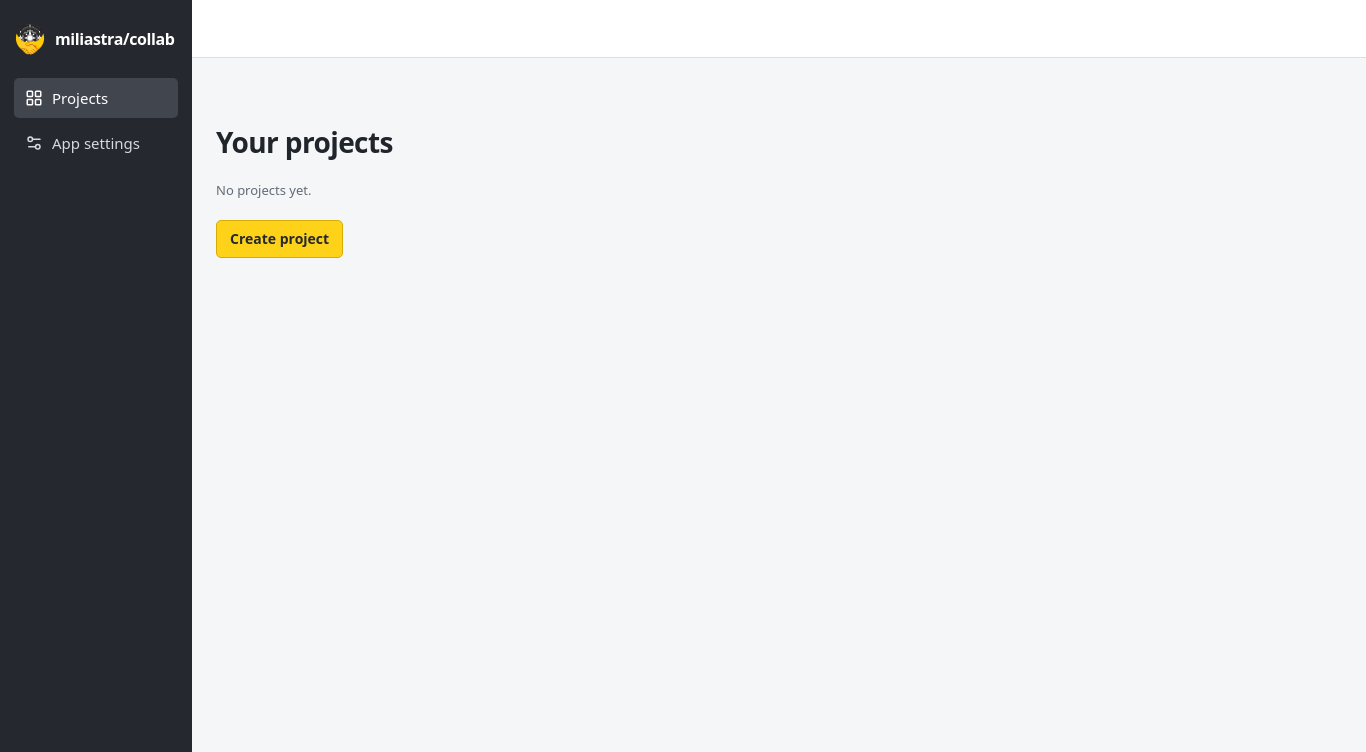
it: hides Google Drive when this build doesn't offer it
The width and height of the screenshot is (1366, 752).
Click the button "App settings": (96, 143) [14, 123, 178, 163]
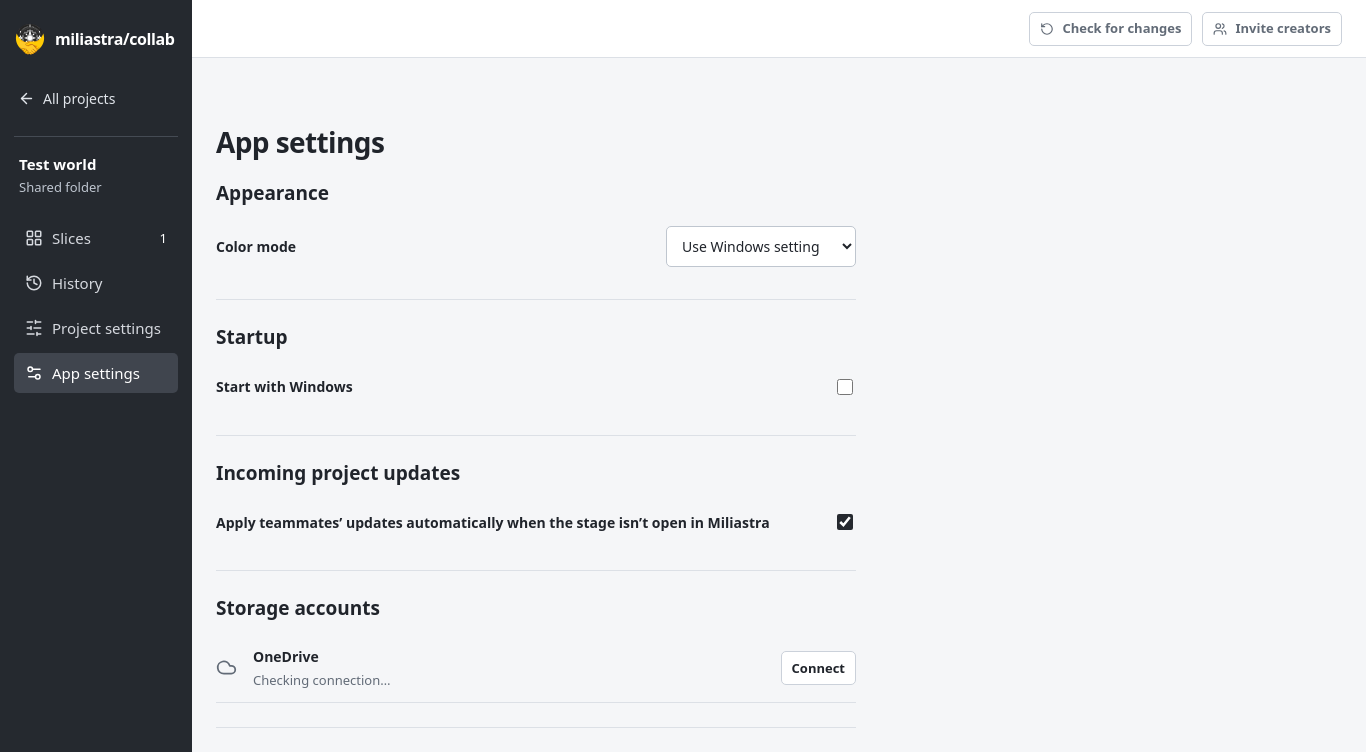
Expected: the element named "OneDrive account" is shown, [216, 634, 856, 703]
